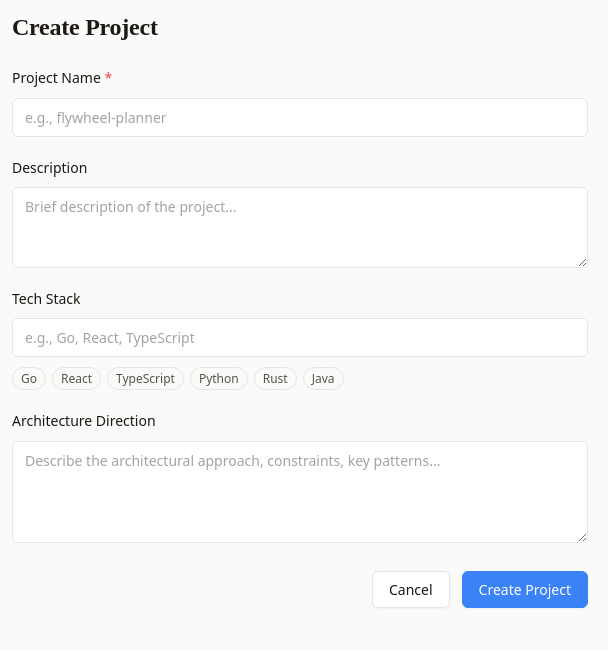
Test: CreateProject › shows validation error for empty name
Click the button "Create Project" at {"x": 525, "y": 589}, box [462, 571, 588, 608]
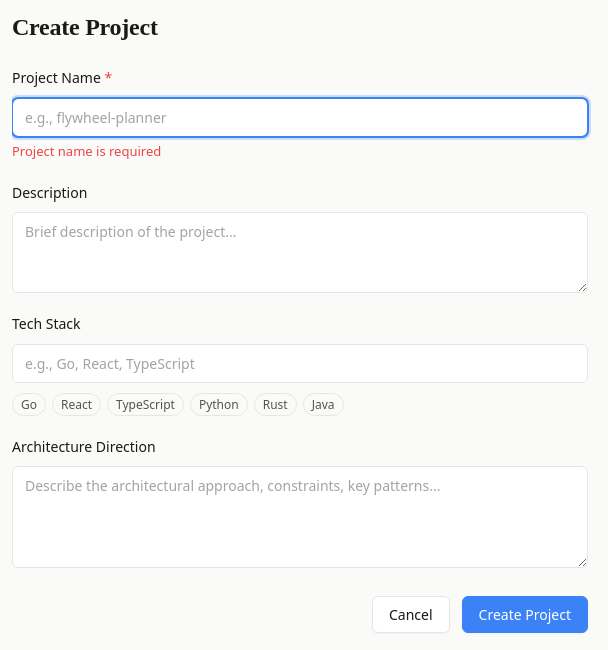
Now the message "Project name is required" is shown, box [12, 142, 161, 160]
